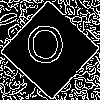O: (25, 25, 66, 73)
